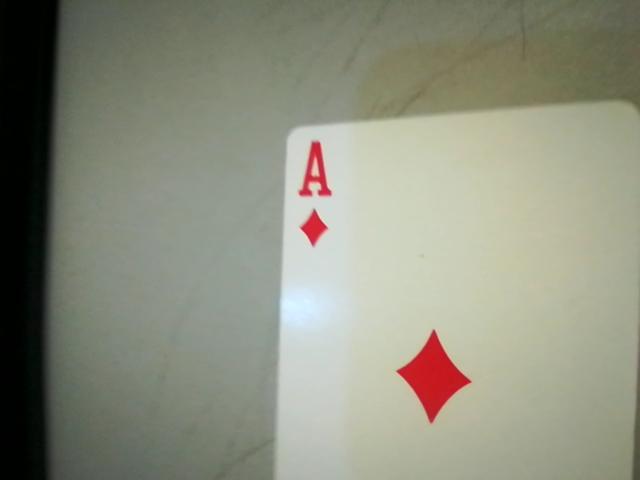fk a: (284, 132, 344, 253)
